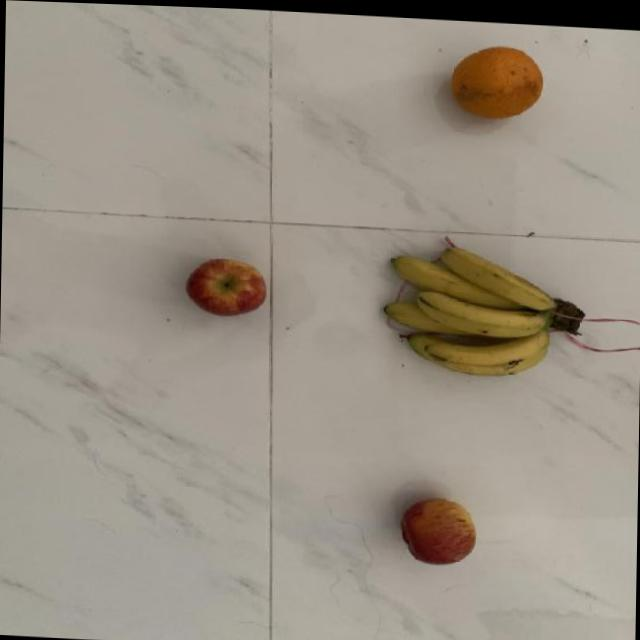Apple: (397, 488, 478, 565), (184, 252, 269, 319)
Banana: (377, 236, 585, 378)
Orange: (448, 34, 548, 122)
